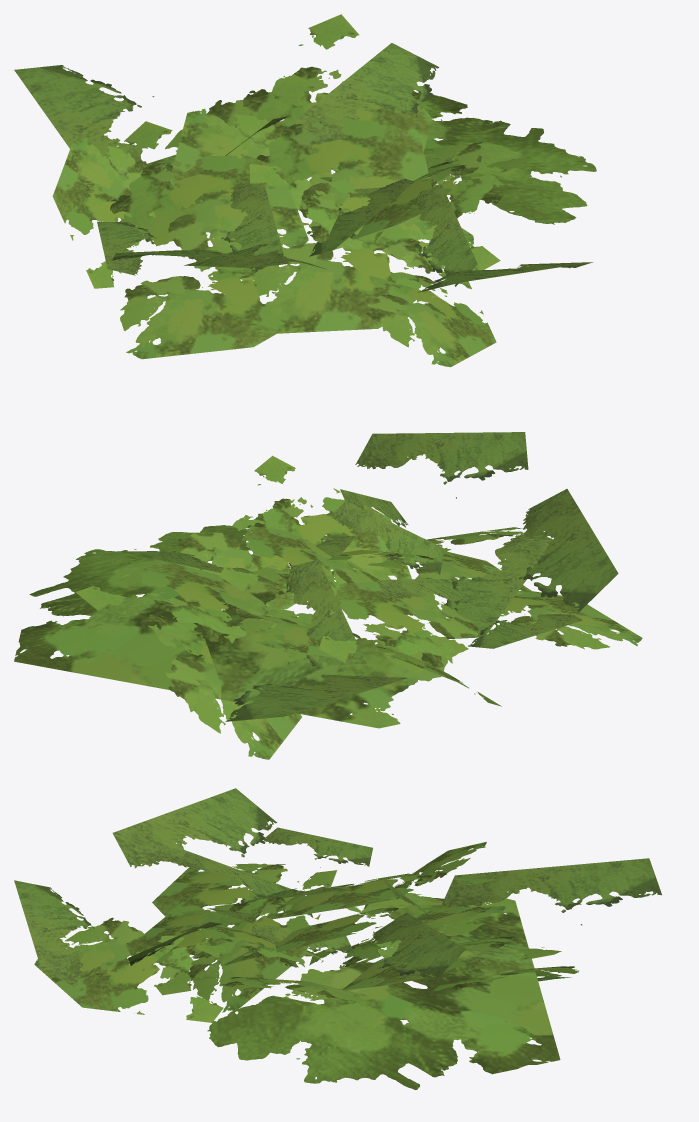
The model's file is Mousse_04.fbx.
3 renders of one model, top to bottom at view 1: azimuth 30°, elevation 25°; view 2: azimuth 150°, elevation 25°; view 3: azimuth 270°, elevation 25°, orthographic. The views are drawn at different scales.
Parts seen in each view (by area): view 1: Mousse_04; view 2: Mousse_04; view 3: Mousse_04.
Part boxes in pixels (bbox=[...]): Mousse_04: bbox=[14, 14, 596, 367]; Mousse_04: bbox=[14, 432, 642, 759]; Mousse_04: bbox=[14, 788, 661, 1089].
Size of the model in its own units: 2.18 by 0.5396 by 2.35.
